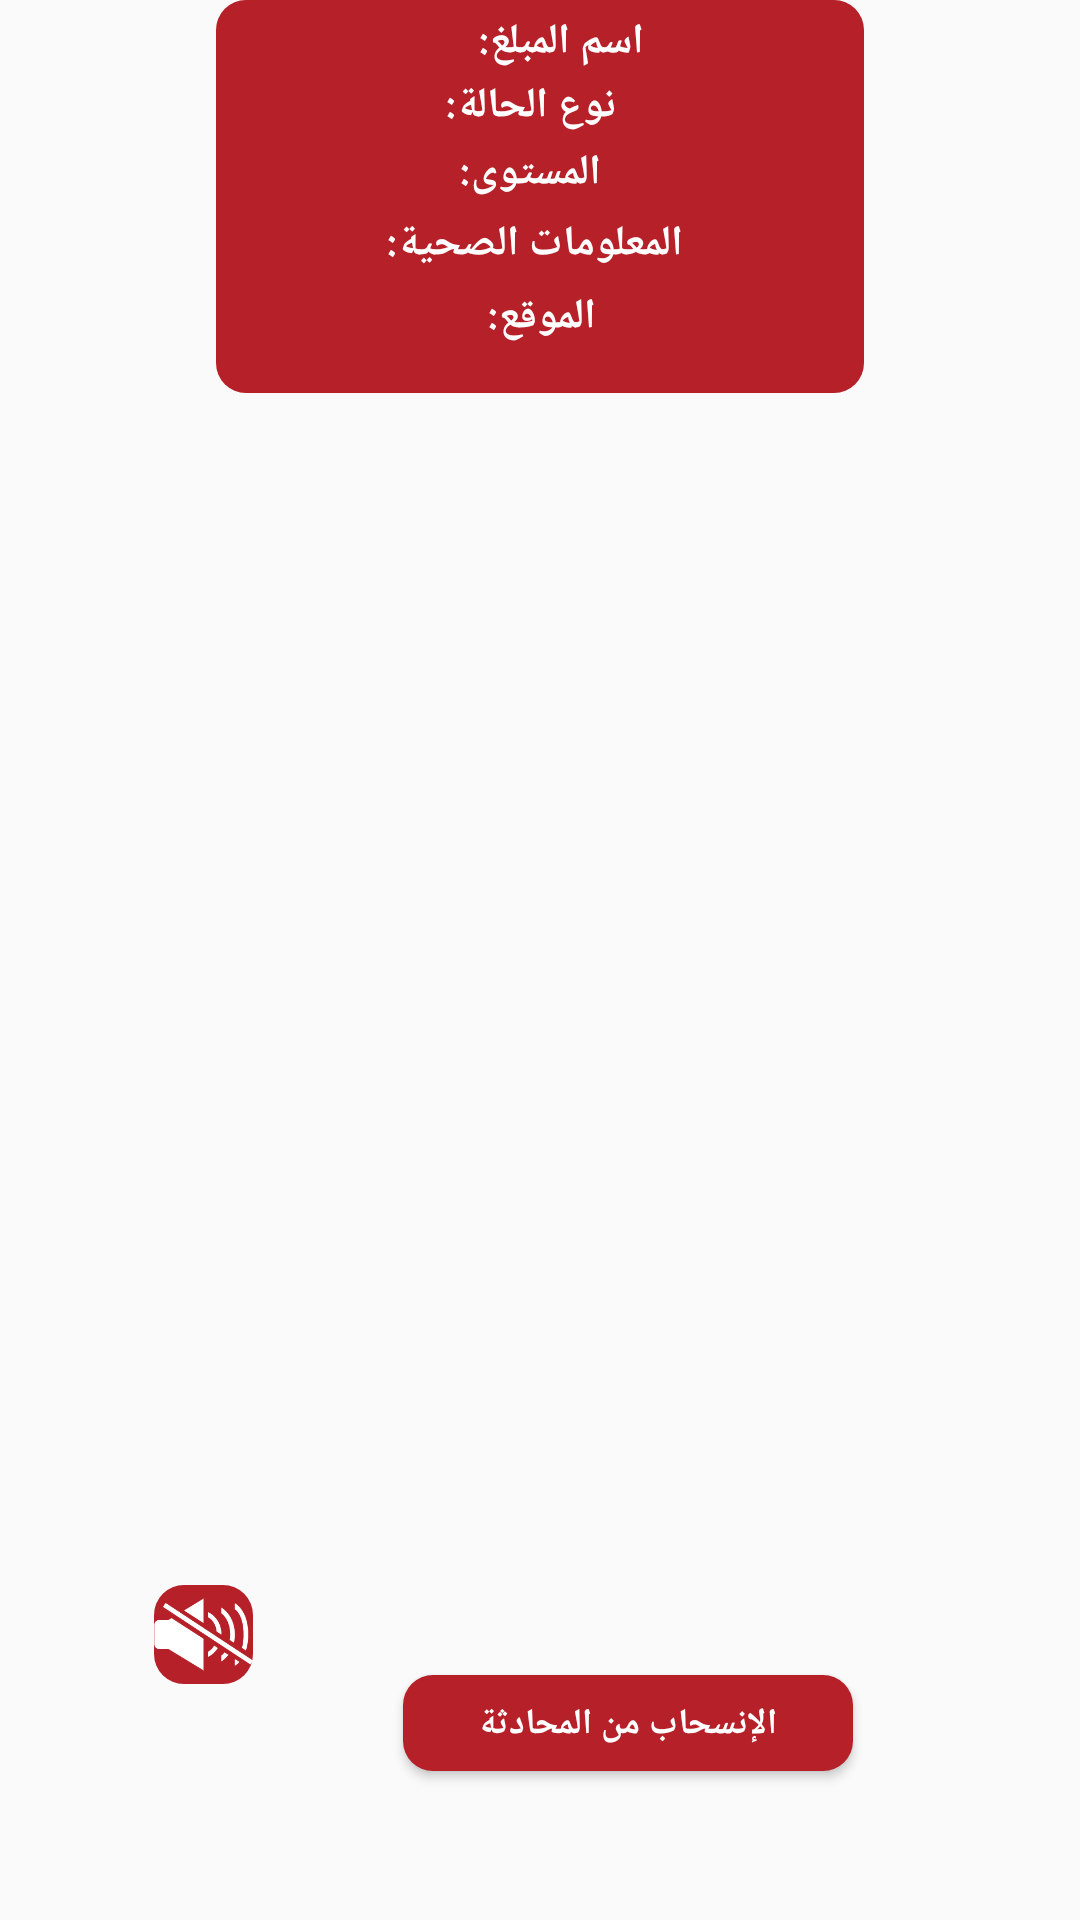

Locate icon controls on the screen. Image size 1080x1920, boxes as [x1=x1, y1=y1, x2=x2, y2=y2].
mute: [x1=154, y1=1585, x2=253, y2=1684]
